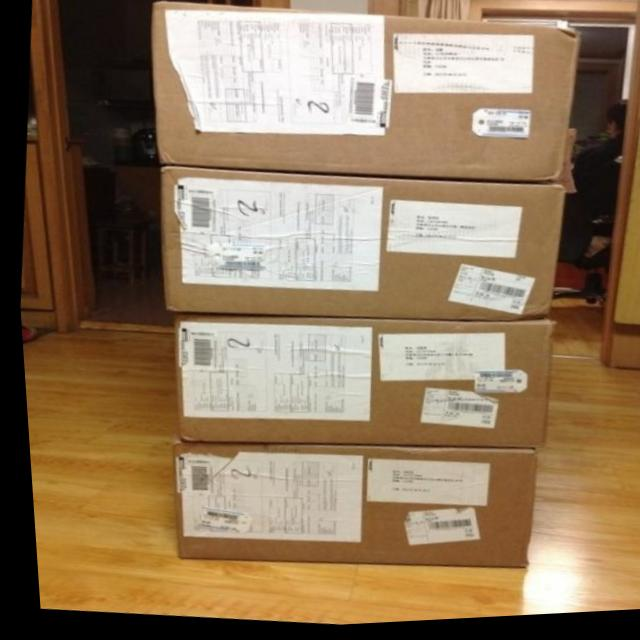box: (148, 3, 580, 187), (157, 165, 564, 327), (169, 313, 553, 455), (164, 440, 532, 573)
